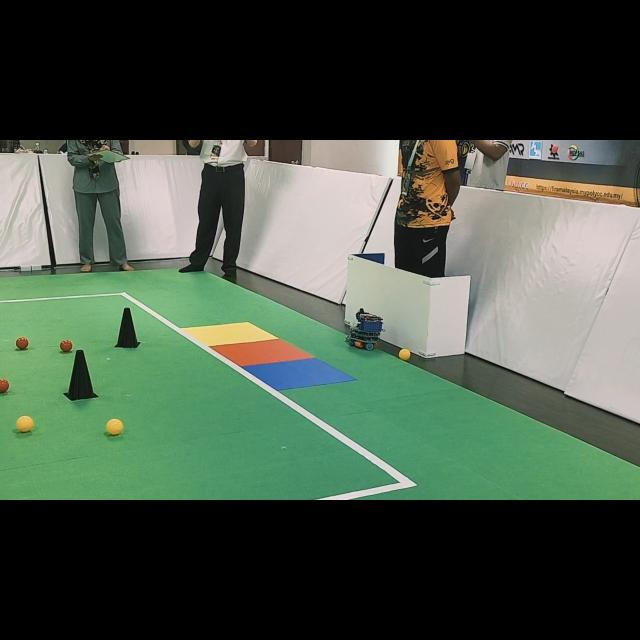ball: (16, 415, 35, 432), (106, 419, 124, 435), (60, 339, 74, 352), (16, 336, 29, 350), (399, 349, 411, 361), (0, 379, 10, 393)
goal: (244, 358, 355, 389), (212, 339, 314, 366), (182, 322, 278, 346)
